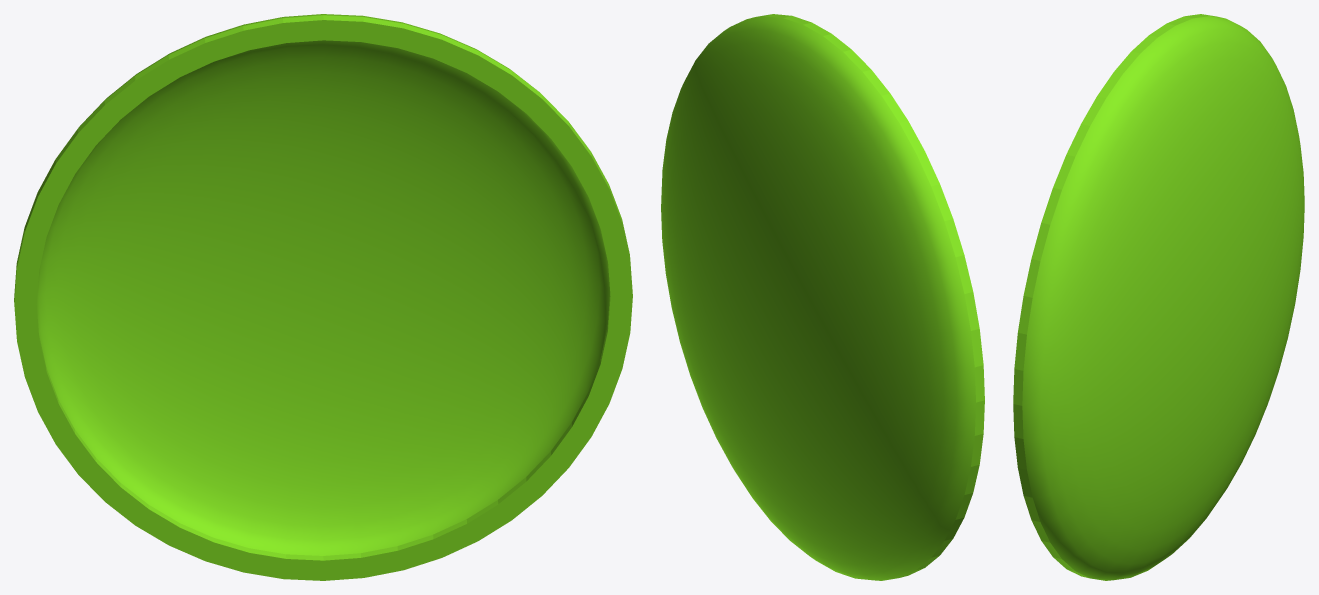
File: green.fbx
3 renders of one model, left to right at view 1: azimuth 30°, elevation 25°; view 2: azimuth 150°, elevation 25°; view 3: azimuth 270°, elevation 25°, orthographic. The views are drawn at different scales.
Visible parts, largest first — view 1: Light; view 2: Light; view 3: Light.
Part boxes in pixels (x1,y1,x2,y2): Light: (14, 14, 632, 580); Light: (661, 14, 984, 580); Light: (1013, 14, 1304, 580).
Bounding box in the file's own units: 15.32 × 17.15 × 8.67.
